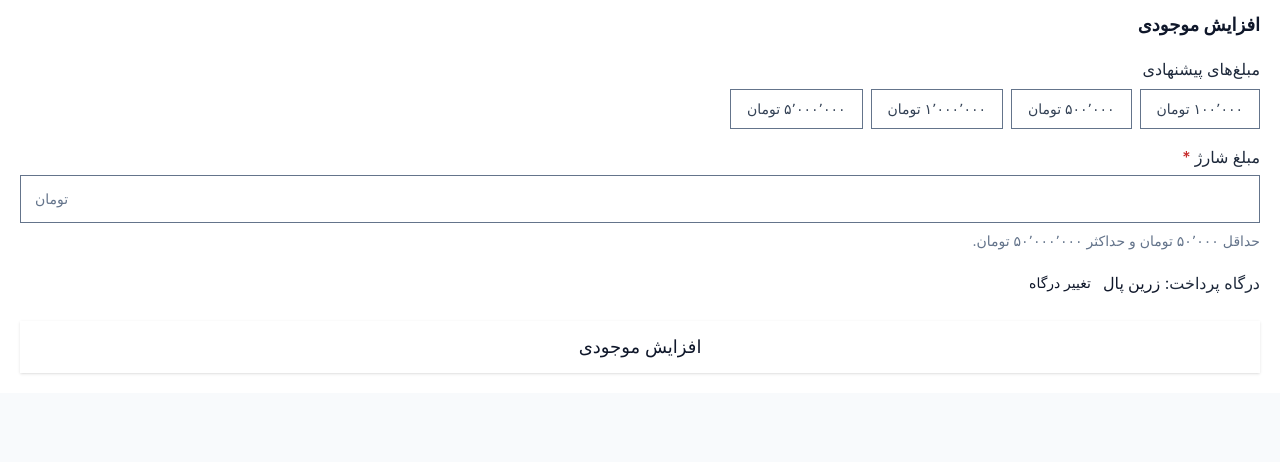
it: the gateway › 502 gateway_rejected: said; the box stays
Type "100000" into the field labelled "مبلغ شارژ *". click: (664, 199)
box: left=68, top=176, right=1259, bottom=222
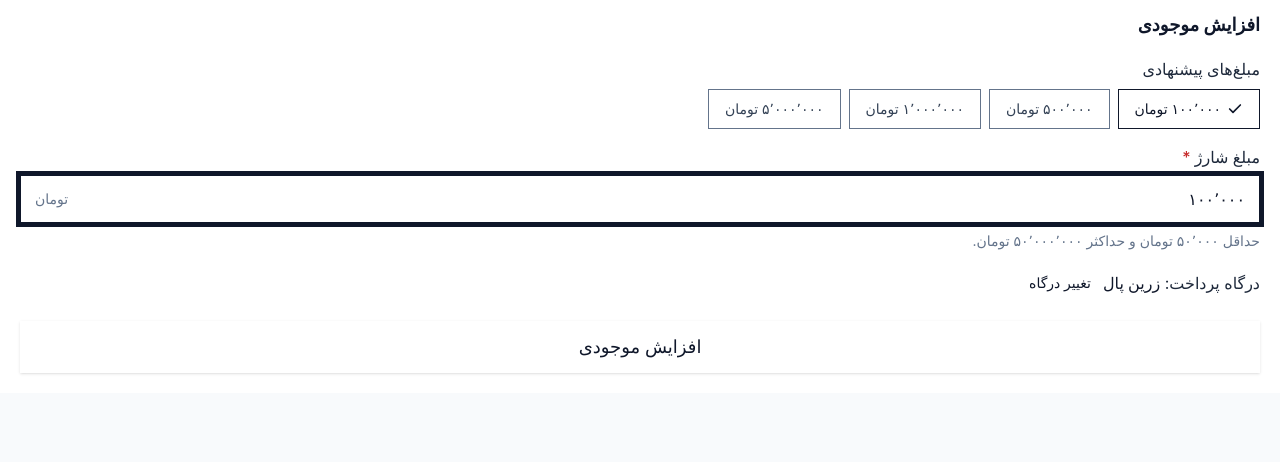
Click the button "افزایش موجودی". click: click(640, 347)
box: left=20, top=321, right=1260, bottom=373
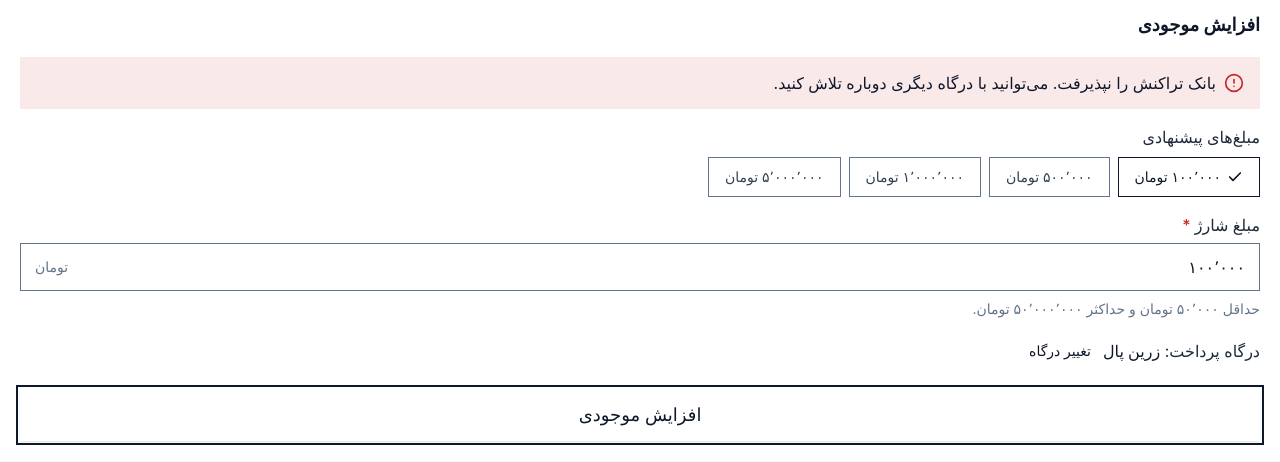
Expected: the button "افزایش موجودی" is shown, left=20, top=389, right=1260, bottom=441
Now the message shows "بانک تراکنش را نپذیرفت.", box left=774, top=73, right=1216, bottom=93
